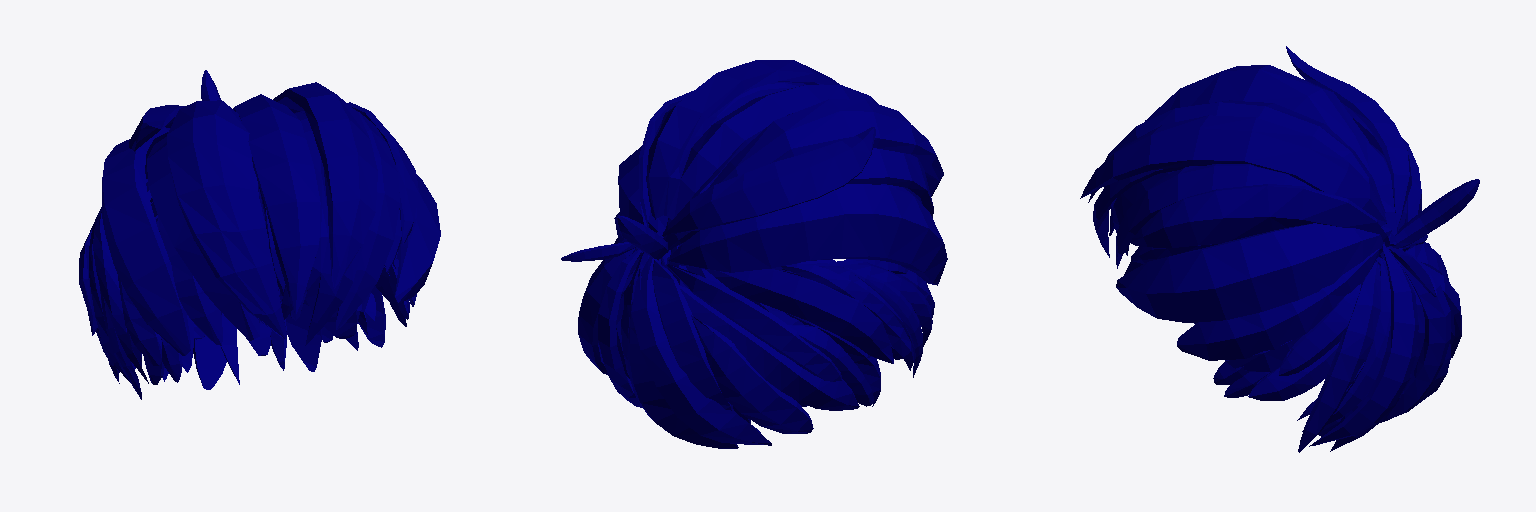
Rendered from hair_low.obj.
3 renders of one model, left to right at view 1: azimuth 30°, elevation 25°; view 2: azimuth 150°, elevation 25°; view 3: azimuth 270°, elevation 25°, orthographic.
Parts seen in each view (by area): view 1: retopology:polySurface1, retopology:polySurface101, retopology:polySurface108, retopology:polySurface106, retopology:polySurface105, retopology:polySurface107, retopology:polySurface103, retopology:polySurface109, retopology:polySurface104, polySurface1, retopology:polySurface113, polySurface26 (+10 smaller); view 2: retopology:polySurface108, retopology:polySurface1, retopology:polySurface102, retopology:polySurface101, polySurface9, polySurface18, polySurface21, polySurface20, polySurface19, polySurface22, polySurface23, polySurface17 (+13 smaller); view 3: retopology:polySurface1, retopology:polySurface103, retopology:polySurface104, retopology:polySurface101, retopology:polySurface114, polySurface16, retopology:polySurface105, polySurface11, retopology:polySurface102, polySurface17, polySurface12, polySurface30 (+12 smaller).
Part boxes in pixels (bbox=[...]): retopology:polySurface1: bbox=[233, 82, 377, 315]; retopology:polySurface101: bbox=[167, 100, 286, 338]; retopology:polySurface108: bbox=[102, 127, 190, 355]; retopology:polySurface106: bbox=[147, 137, 259, 340]; retopology:polySurface105: bbox=[336, 111, 399, 329]; retopology:polySurface107: bbox=[281, 111, 363, 345]; retopology:polySurface103: bbox=[395, 175, 440, 302]; retopology:polySurface109: bbox=[158, 171, 259, 345]; retopology:polySurface104: bbox=[347, 102, 418, 272]; polySurface1: bbox=[93, 212, 148, 383]; retopology:polySurface113: bbox=[117, 273, 161, 365]; polySurface26: bbox=[280, 292, 321, 371]; retopology:polySurface108: bbox=[668, 184, 947, 285]; retopology:polySurface1: bbox=[646, 60, 877, 219]; retopology:polySurface102: bbox=[662, 127, 875, 236]; retopology:polySurface101: bbox=[708, 99, 943, 196]; polySurface9: bbox=[704, 269, 893, 363]; polySurface18: bbox=[631, 256, 771, 445]; polySurface21: bbox=[691, 315, 813, 433]; polySurface20: bbox=[679, 286, 859, 410]; polySurface19: bbox=[667, 264, 841, 381]; polySurface22: bbox=[652, 260, 733, 410]; polySurface23: bbox=[627, 302, 738, 448]; polySurface17: bbox=[598, 249, 643, 408]; retopology:polySurface1: bbox=[1080, 100, 1386, 226]; retopology:polySurface103: bbox=[1116, 223, 1391, 322]; retopology:polySurface104: bbox=[1131, 184, 1390, 263]; retopology:polySurface101: bbox=[1109, 65, 1368, 235]; retopology:polySurface114: bbox=[1177, 249, 1378, 360]; polySurface16: bbox=[1309, 244, 1418, 446]; retopology:polySurface105: bbox=[1116, 164, 1313, 268]; polySurface11: bbox=[1298, 261, 1380, 452]; retopology:polySurface102: bbox=[1286, 46, 1411, 226]; polySurface17: bbox=[1380, 247, 1450, 422]; polySurface12: bbox=[1279, 261, 1375, 375]; polySurface30: bbox=[1302, 258, 1390, 431].
Size of the model in its own units: 44.38 by 45.48 by 51.06.